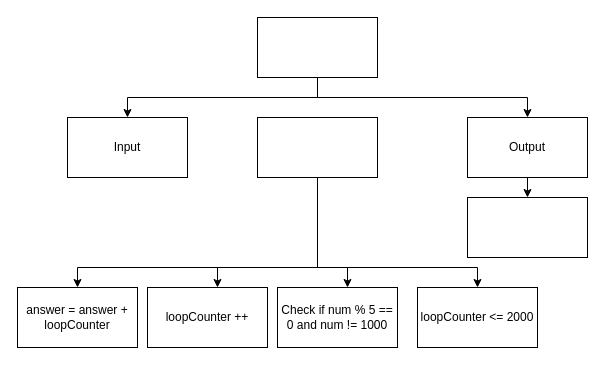
Some shapes in this 605 by 365 pixel diagram are drawn without their labels. The shapes that lost their labels are listed below. From the top down, each one's box as (x1, y1, x2, y2) in pixels, then its label:
(256, 16, 378, 78): Counting program
(256, 116, 378, 178): Process
(466, 196, 588, 258): show output
